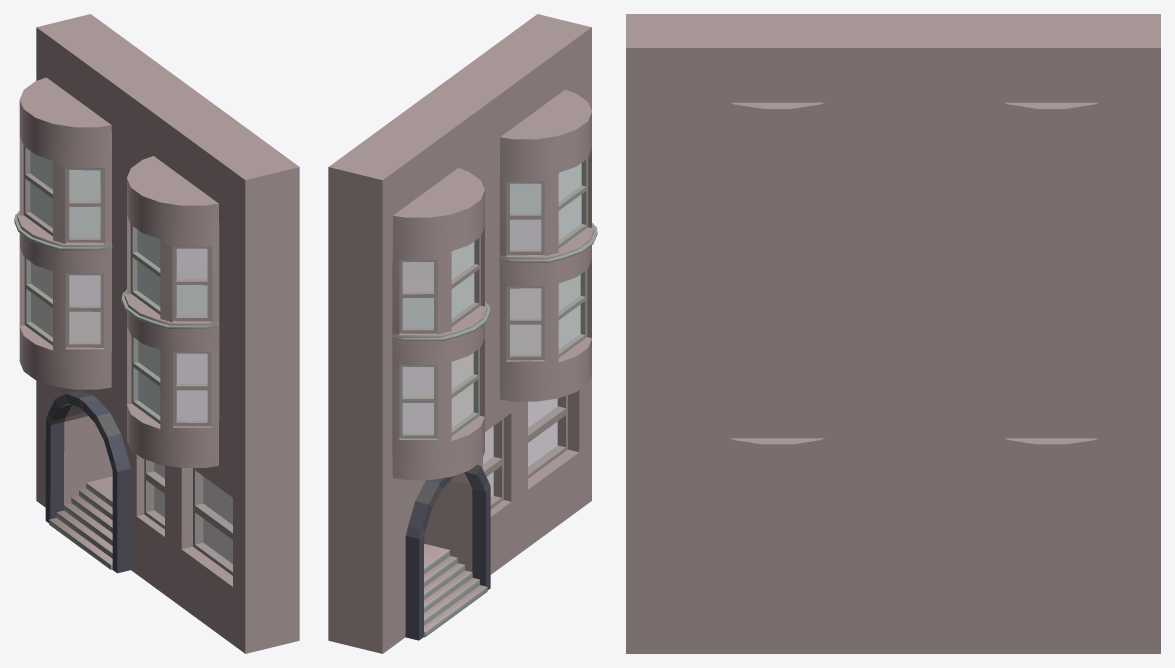
The model's file is KA_facade_n1.fbx.
3 views of the same model, side by side, from view 1: azimuth 30°, elevation 25°; view 2: azimuth 150°, elevation 25°; view 3: azimuth 270°, elevation 25° (orthographic). The views are drawn at different scales.
Parts seen in each view (by area): view 1: Box005; view 2: Box005; view 3: Box005.
Part boxes in pixels (x1=…): Box005: x1=14, y1=14, x2=299, y2=653; Box005: x1=328, y1=14, x2=597, y2=653; Box005: x1=626, y1=14, x2=1160, y2=653.
Size of the model in its own units: 308 by 1167 by 933.
